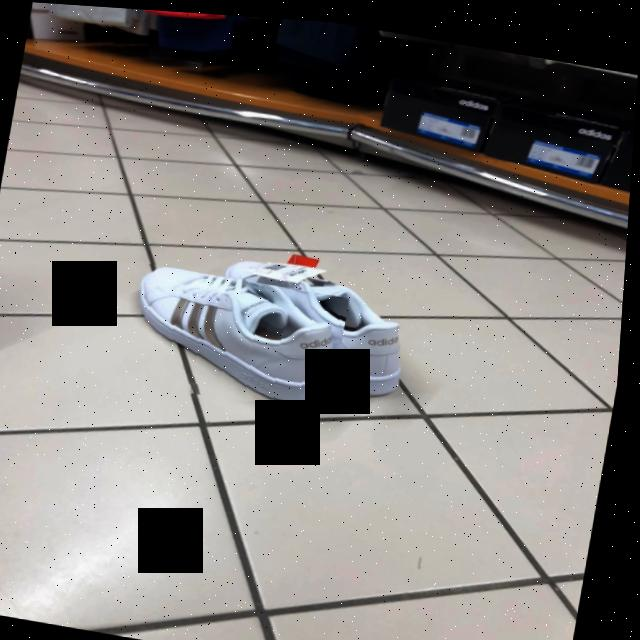shoe: (141, 265, 341, 404)
